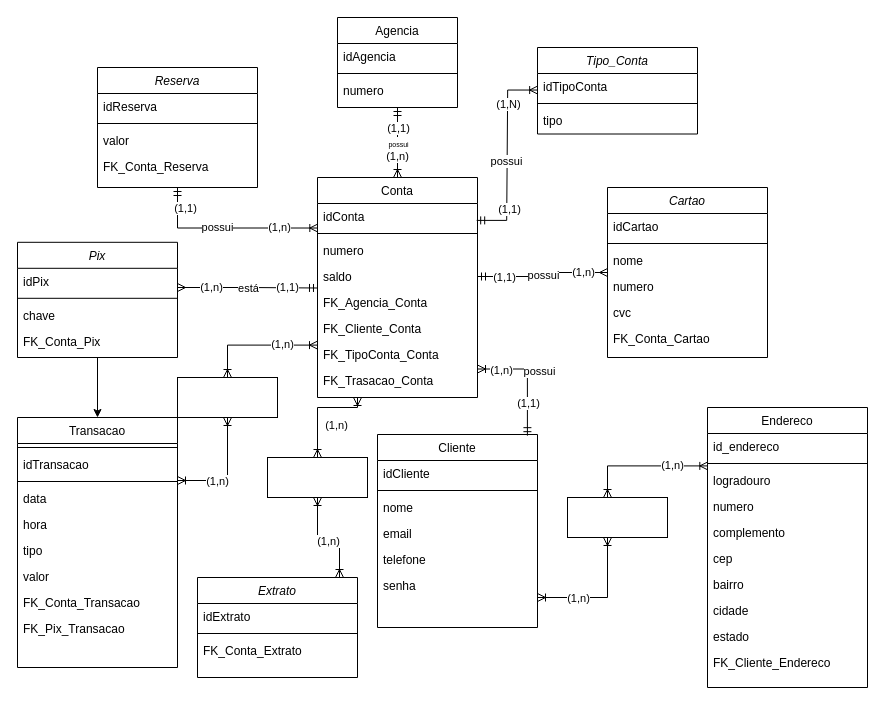
This 885x705 diagram has some shape labels left out. The shapes that lost their labels are listed below. From the top down, each one's centre as x and y in pixels, then its label:
the point at 227,397: Conta_Movimeto
the point at 317,477: Conta_Extrato
the point at 617,517: Cliente_Endereco
